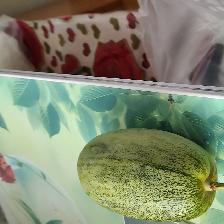gua: (81, 129, 217, 214)
